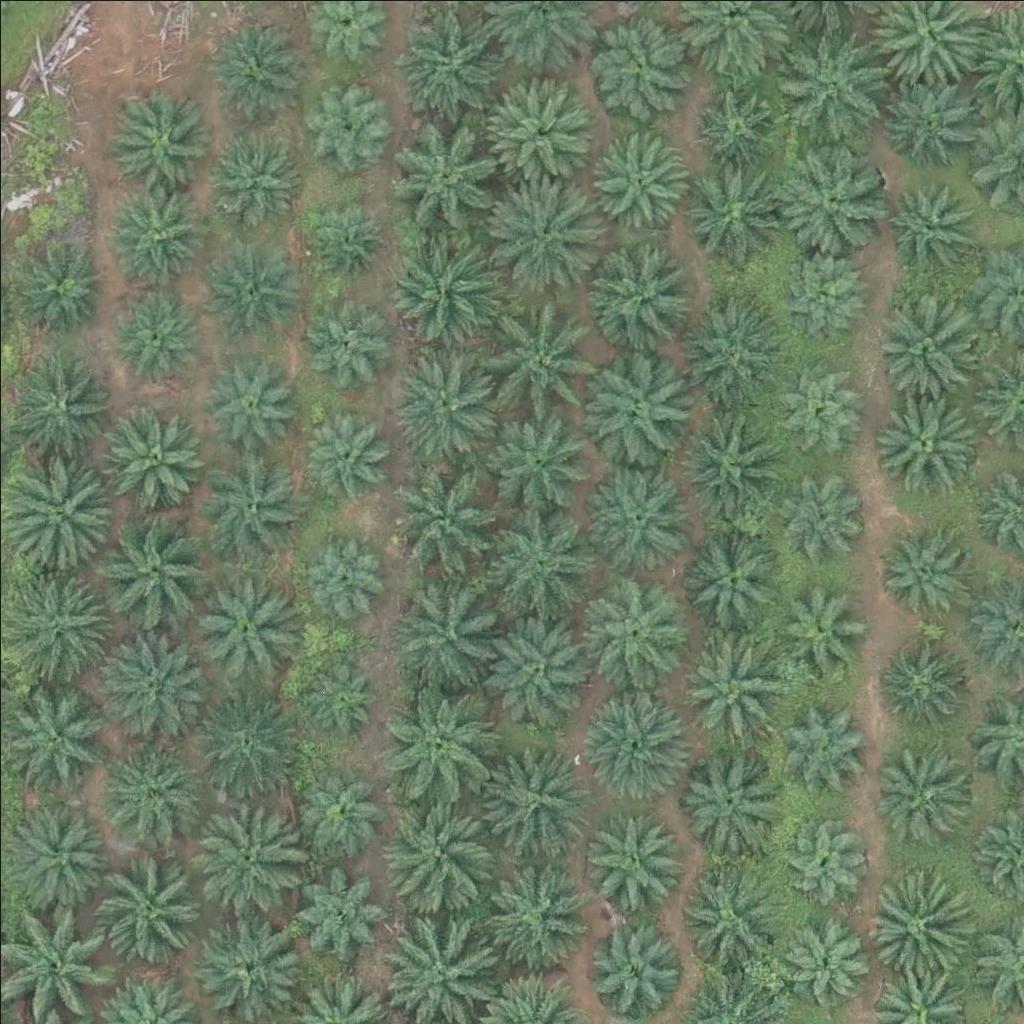Kelapa_Sawit: (482, 169, 595, 283), (194, 903, 307, 1017), (476, 746, 589, 860), (384, 348, 497, 461), (388, 229, 501, 342), (395, 113, 508, 226), (588, 344, 701, 457), (780, 39, 893, 152), (1, 798, 114, 911), (4, 565, 117, 678), (91, 851, 204, 964), (377, 792, 490, 905), (483, 611, 596, 724), (476, 857, 589, 970), (577, 685, 690, 798), (671, 623, 784, 736), (673, 865, 786, 978), (778, 140, 890, 254), (88, 398, 200, 512), (383, 686, 495, 800), (674, 408, 786, 522), (863, 865, 975, 979), (2, 338, 114, 451), (483, 75, 595, 188), (476, 300, 588, 413), (591, 239, 703, 352), (673, 291, 785, 404), (676, 151, 788, 264), (865, 288, 977, 401), (97, 520, 209, 633), (101, 629, 213, 742), (187, 790, 299, 903), (188, 688, 300, 801), (187, 569, 299, 682), (198, 448, 310, 561), (381, 909, 493, 1022), (392, 577, 504, 690), (387, 467, 499, 580), (485, 412, 597, 525), (486, 503, 598, 616), (579, 456, 691, 569), (870, 387, 982, 500), (105, 179, 205, 280), (109, 87, 209, 188), (204, 131, 304, 232), (203, 22, 303, 123), (589, 125, 689, 226), (589, 13, 689, 114), (879, 68, 979, 169), (875, 181, 975, 282), (98, 736, 198, 837), (287, 859, 387, 960), (587, 914, 687, 1015), (579, 810, 679, 911), (583, 573, 683, 674), (687, 529, 787, 630), (676, 746, 776, 847), (877, 521, 977, 622), (197, 358, 297, 458), (202, 229, 302, 329), (876, 744, 976, 844), (111, 296, 199, 384), (299, 86, 387, 174), (696, 80, 784, 168), (779, 250, 867, 338), (781, 911, 869, 999), (776, 585, 864, 673), (771, 465, 859, 553), (883, 640, 971, 728), (16, 240, 103, 328), (302, 194, 389, 282), (302, 299, 389, 387), (299, 411, 386, 499), (299, 535, 386, 623), (288, 768, 375, 856), (780, 814, 867, 902), (779, 695, 866, 783), (777, 360, 864, 448), (302, 657, 377, 733)
